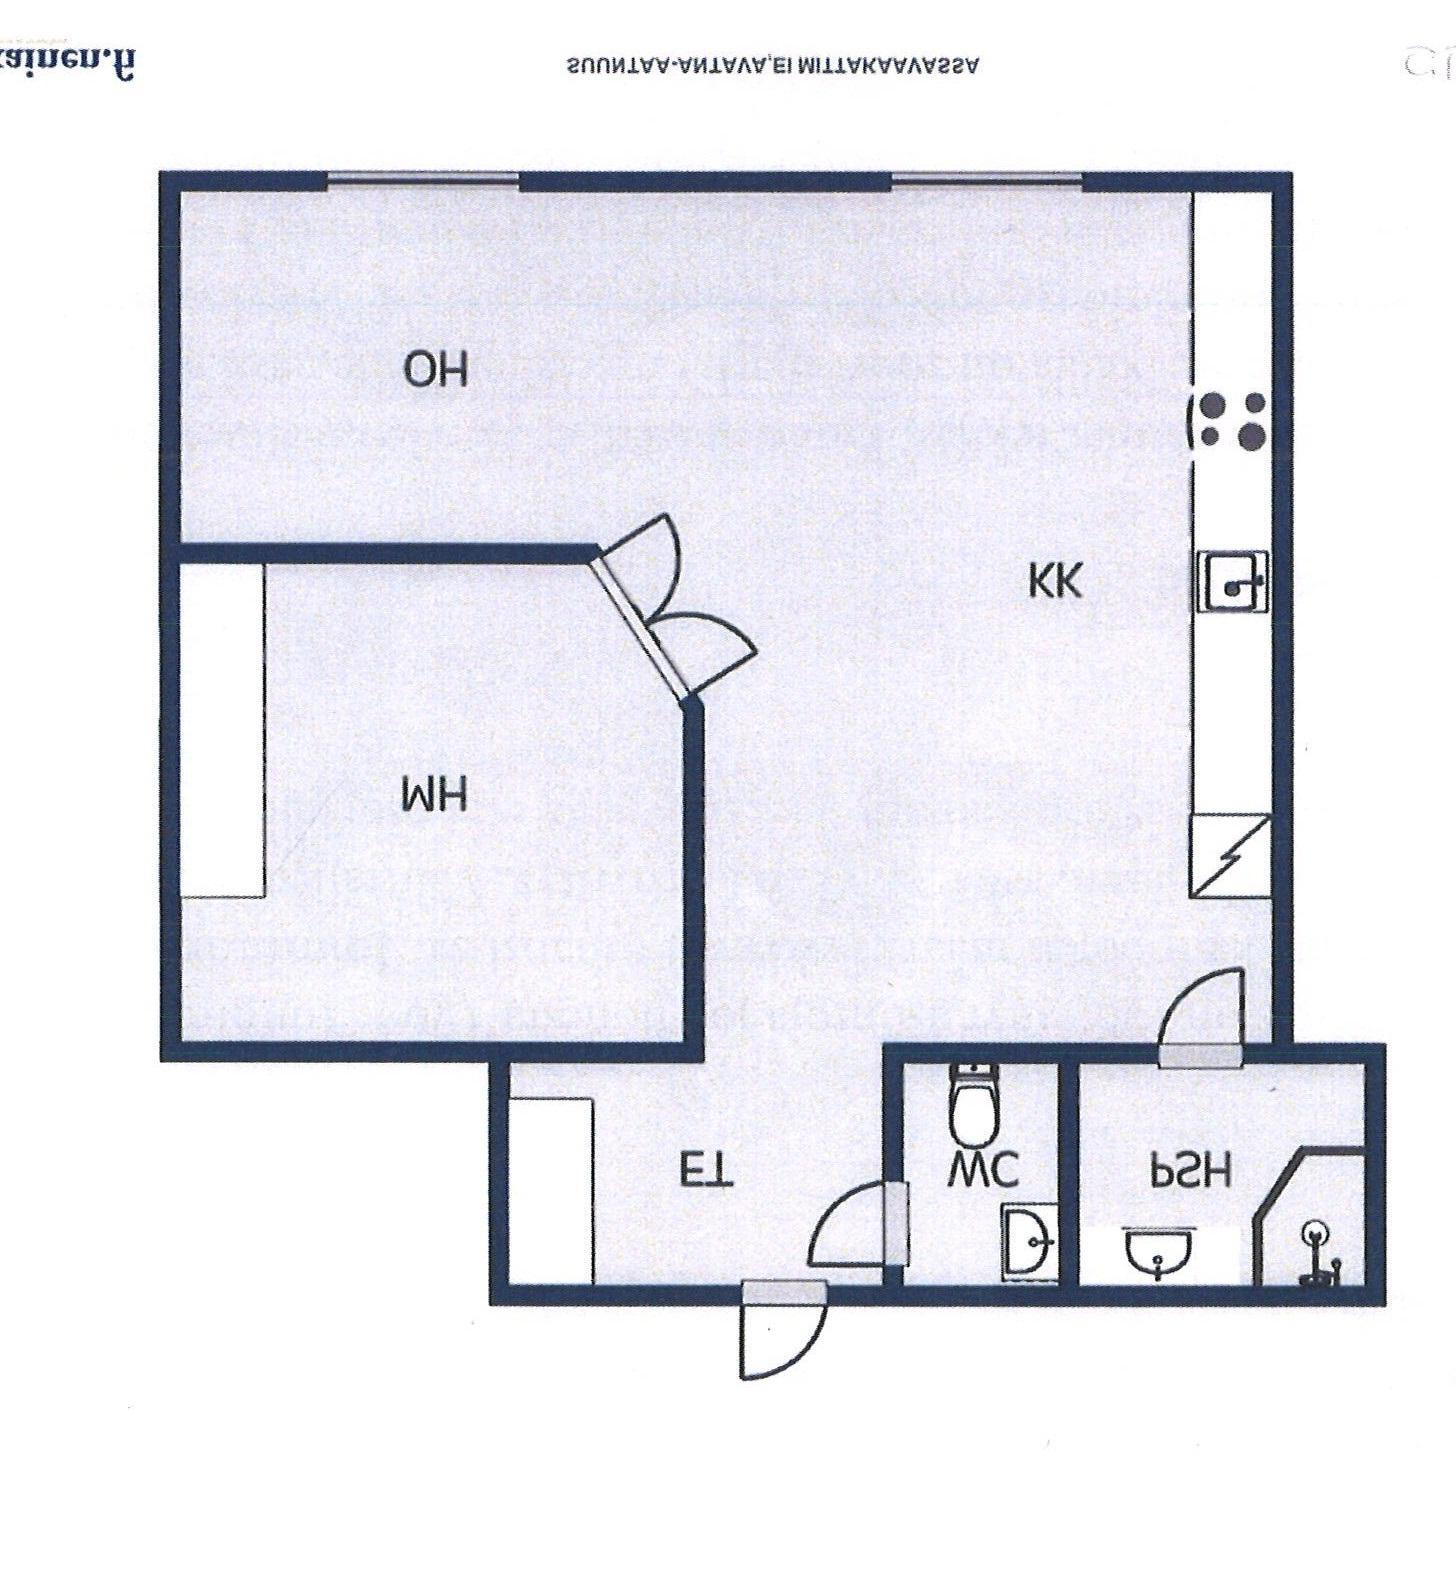bathroom: (890, 1053, 1062, 1291)
door: (720, 1269, 836, 1395), (575, 508, 699, 618), (639, 605, 772, 706), (1150, 957, 1256, 1080), (795, 1176, 921, 1273)
perimeter: (162, 169, 1371, 1298)
window: (309, 155, 538, 207), (869, 158, 1102, 204)
